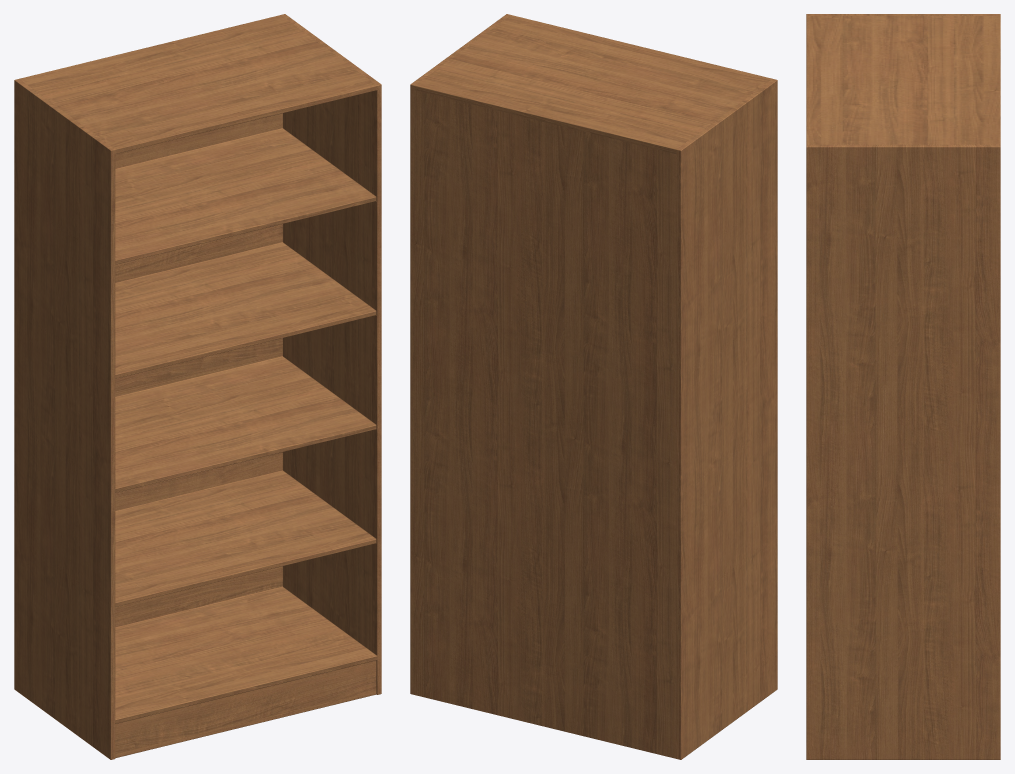
The model's file is m_furniture_shelves_01.glb.
3 renders of one model, left to right at view 1: azimuth 30°, elevation 25°; view 2: azimuth 150°, elevation 25°; view 3: azimuth 270°, elevation 25°, orthographic.
Visible parts, largest first — view 1: Wall Book Shelf; view 2: Wall Book Shelf; view 3: Wall Book Shelf.
Boxes of the visible parts, x1,y1,x2,y2 form: Wall Book Shelf: [14, 14, 381, 759]; Wall Book Shelf: [410, 14, 777, 759]; Wall Book Shelf: [806, 14, 1000, 759].
Bounding box in the file's own units: 0.979 × 2.1 × 0.6046.
Materials: 1 (1 with a texture image).
